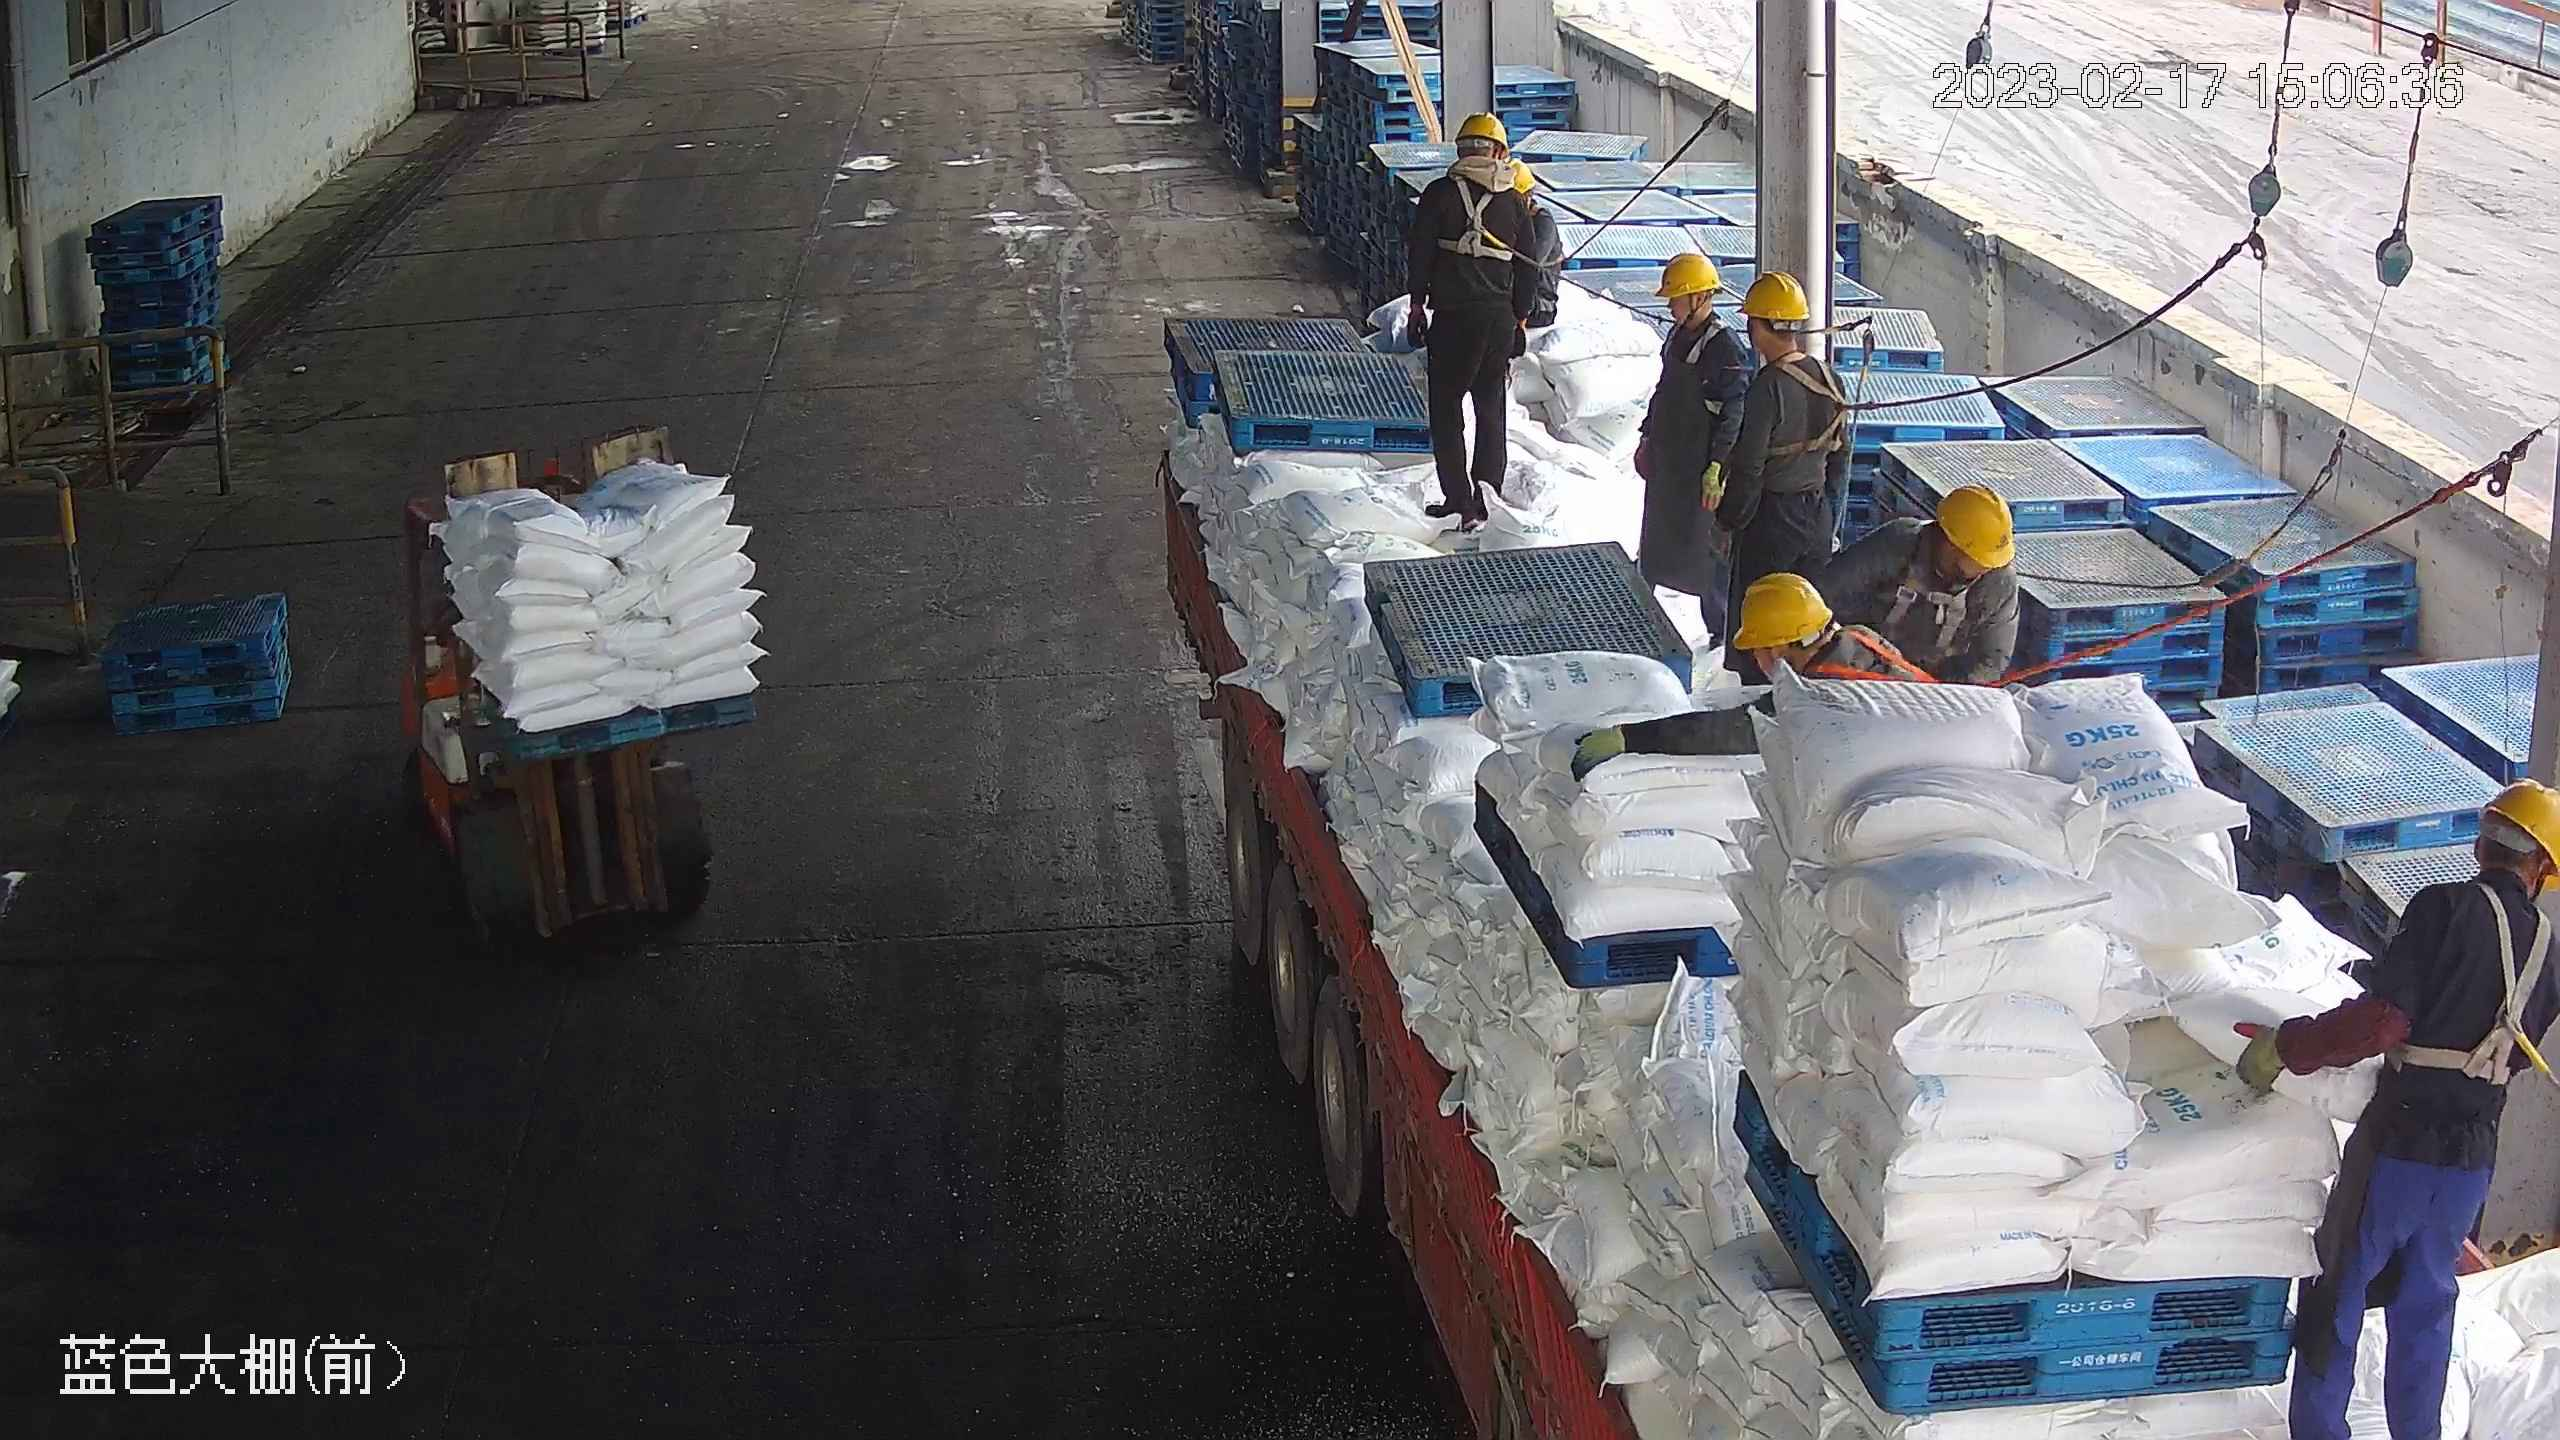belt: (2388, 876, 2560, 1091), (1893, 538, 1997, 653), (1759, 349, 1857, 458), (1439, 169, 1532, 264), (1652, 316, 1739, 369)
head: (2394, 774, 2560, 980), (1858, 481, 2026, 606), (1728, 266, 1853, 412), (1728, 574, 1892, 682), (1643, 249, 1749, 374), (1408, 113, 1528, 218)
helmet: (2480, 776, 2560, 885), (1728, 568, 1834, 650), (1931, 481, 2018, 570), (1739, 266, 1813, 322), (1649, 250, 1723, 301), (1452, 112, 1514, 147)
people: (2227, 776, 2557, 1440), (1400, 111, 1534, 531), (1715, 265, 1855, 633), (1626, 246, 1751, 652)
truck: (1152, 150, 2556, 1440)
